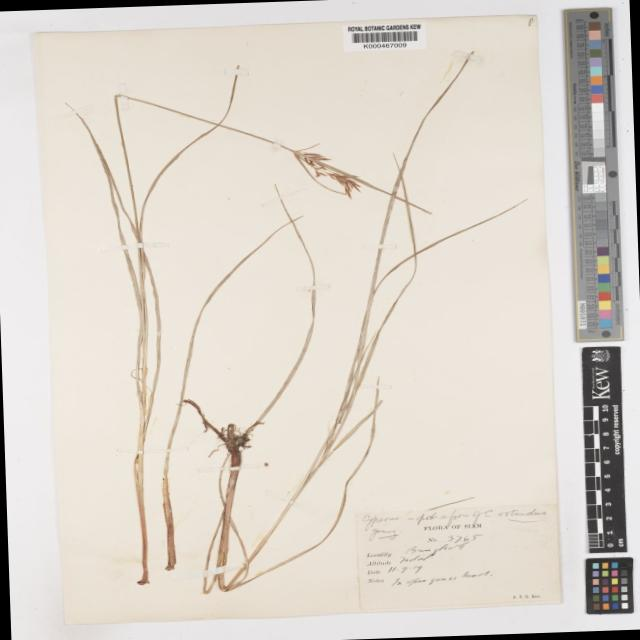cyperus: (282, 125, 366, 212)
